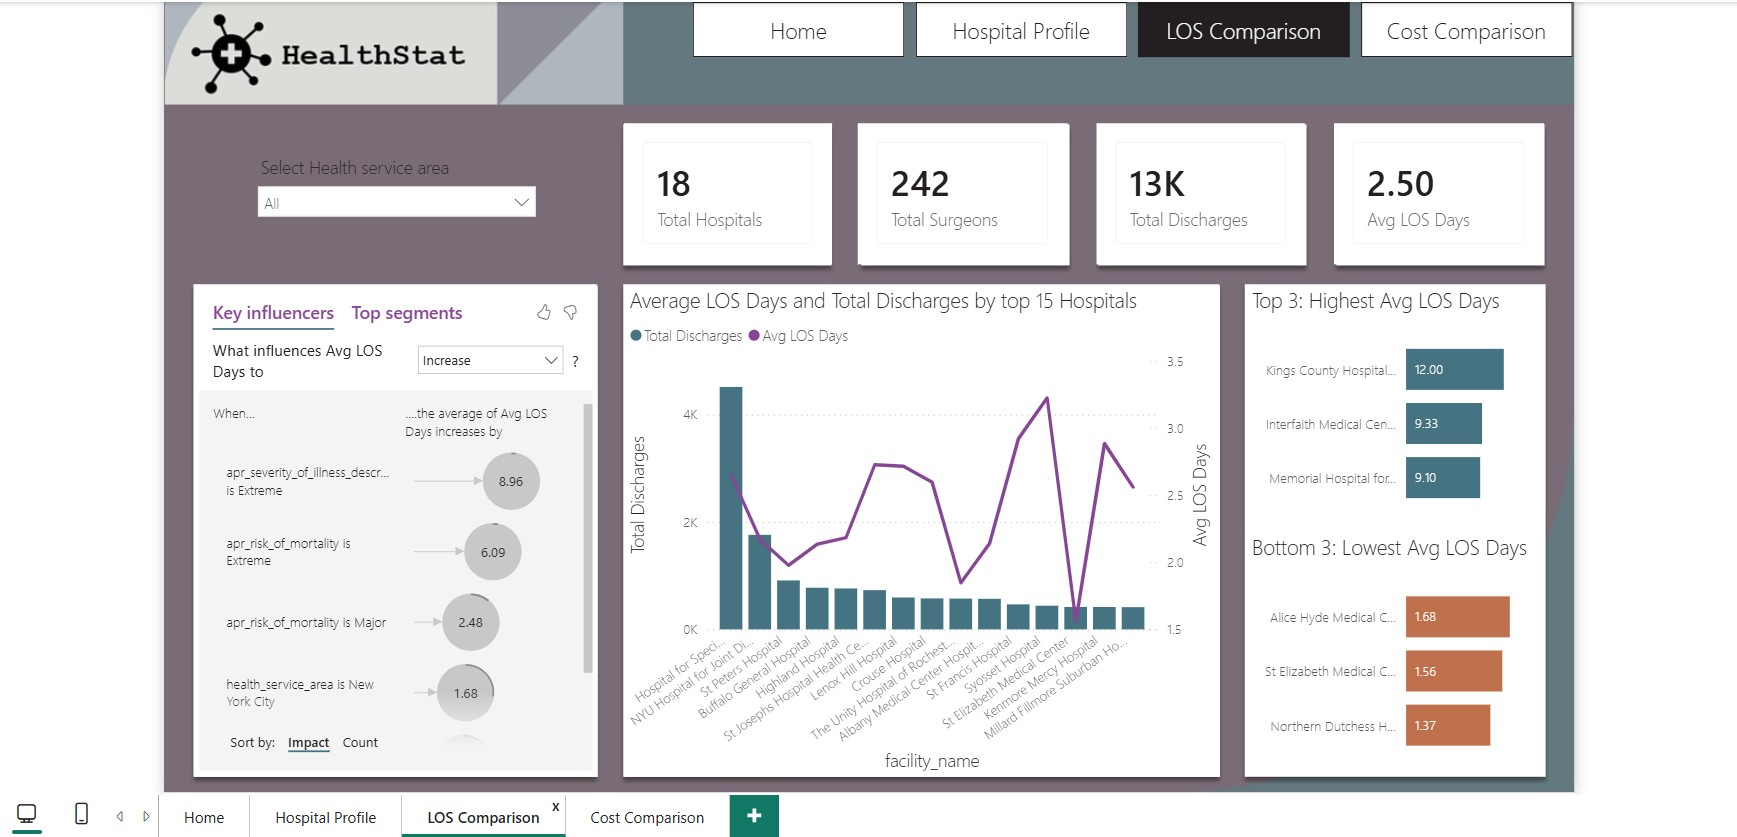

Layout of this report page (visuals, bound fields, positions):
{"tool":"powerbi","page":{"name":"LOS Comparison","canvas":[1280,720],"ordinal":2},"visuals":[{"type":"lineStackedColumnComboChart","title":"Average LOS Days and Total Discharges by top 15 Hospitals","fields":{"Category":["hospital_discharges.facility_name"],"Y2":["_Measures.Avg LOS Days"],"Y":["_Measures.Total Discharges"]},"box":[417.4,257,540.7,445.4],"z":0},{"type":"cardVisual","fields":{"Data":["_Measures.Total Surgeons"]},"box":[629.7,109.8,190.4,127.9],"z":1000},{"type":"slicer","title":"Select Health service area","fields":{"Values":["hospital_discharges.health_service_area"]},"box":[74.4,133.7,272.1,80.2],"z":2000},{"type":"keyDriversVisual","fields":{"Target":["_Measures.Avg LOS Days"],"ExplainBy":["hospital_discharges.apr_risk_of_mortality","hospital_discharges.apr_severity_of_illness_description","hospital_discharges.ccs_diagnosis_description","hospital_discharges.patient_disposition","hospital_discharges.gender","surgical_program_volume_summary.discharges_bins","hospital_discharges.age_band","hospital_discharges.health_service_area"]},"box":[26.7,257,366.3,445.4],"z":3000},{"type":"clusteredBarChart","title":"Top 3: Highest Avg LOS Days","fields":{"Y":["_Measures.Avg LOS Days"],"Category":["hospital_discharges.facility_name"]},"box":[982.8,257.2,269.7,219.6],"z":4000},{"type":"clusteredBarChart","title":"Bottom 3: Lowest Avg LOS Days","fields":{"Y":["_Measures.Avg LOS Days"],"Category":["hospital_discharges.facility_name"]},"box":[982.8,482.4,269.7,219.6],"z":5000},{"type":"cardVisual","fields":{"Data":["_Measures.Total Discharges"]},"box":[846.6,109.8,189.1,127.9],"z":6000},{"type":"cardVisual","fields":{"Data":["_Measures.Total Hospitals"]},"box":[417,109.8,189.1,127.9],"z":7000},{"type":"cardVisual","fields":{"Data":["_Measures.Avg LOS Days"]},"box":[1062,109.8,190.4,127.9],"z":8000},{"type":"pageNavigator","box":[480.2,0,800,50],"z":8001}]}

Visuals, with their boxes on the page's 1280x720 design canvas (x1, y1, x2, y2). These are canvas units, not pixel positions in the 1737x837 screenshot, which may show the page scaled, cropped or inside an application window:
"Average LOS Days and Total Discharges by top 15 Hospitals" lineStackedColumnComboChart: (left=417, top=257, right=958, bottom=702)
cardVisual - _Measures.Total Surgeons: (left=630, top=110, right=820, bottom=238)
"Select Health service area" slicer: (left=74, top=134, right=346, bottom=214)
keyDriversVisual - _Measures.Avg LOS Days x hospital_discharges.apr_risk_of_mortality: (left=27, top=257, right=393, bottom=702)
"Top 3: Highest Avg LOS Days" clusteredBarChart: (left=983, top=257, right=1252, bottom=477)
"Bottom 3: Lowest Avg LOS Days" clusteredBarChart: (left=983, top=482, right=1252, bottom=702)
cardVisual - _Measures.Total Discharges: (left=847, top=110, right=1036, bottom=238)
cardVisual - _Measures.Total Hospitals: (left=417, top=110, right=606, bottom=238)
cardVisual - _Measures.Avg LOS Days: (left=1062, top=110, right=1252, bottom=238)
pageNavigator: (left=480, top=0, right=1280, bottom=50)
